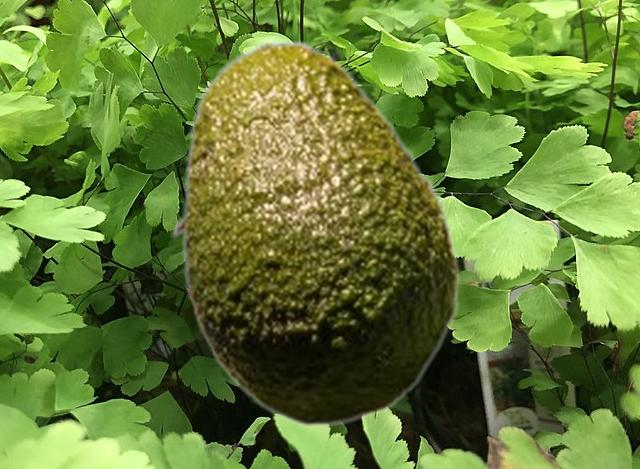avocado: (170, 39, 460, 426)
